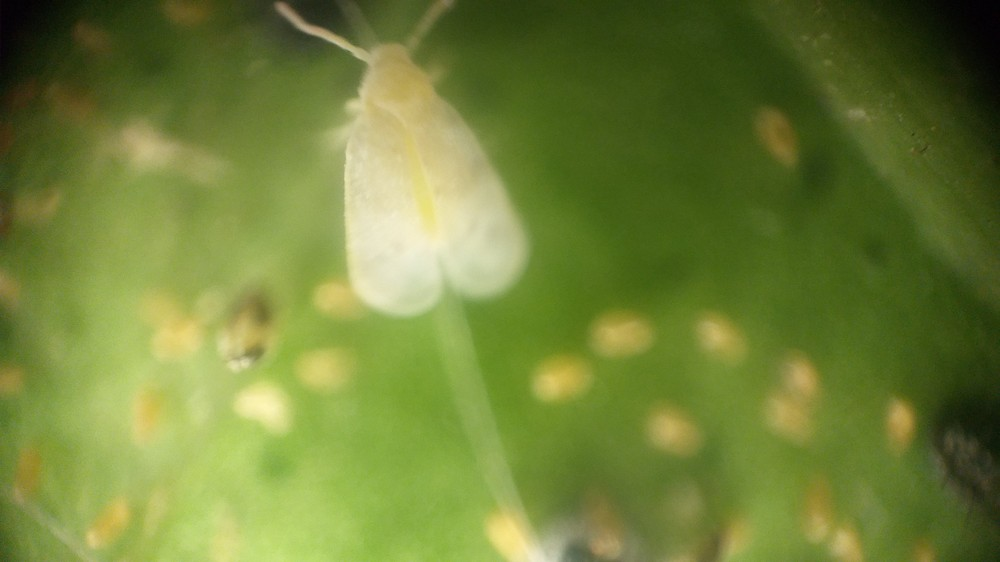Mosca Blanca: (245, 3, 571, 331)
